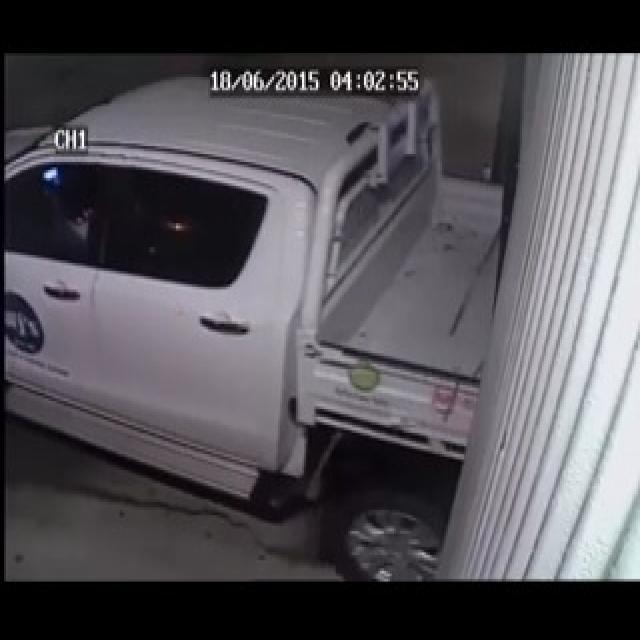burglary: (3, 98, 514, 535)
